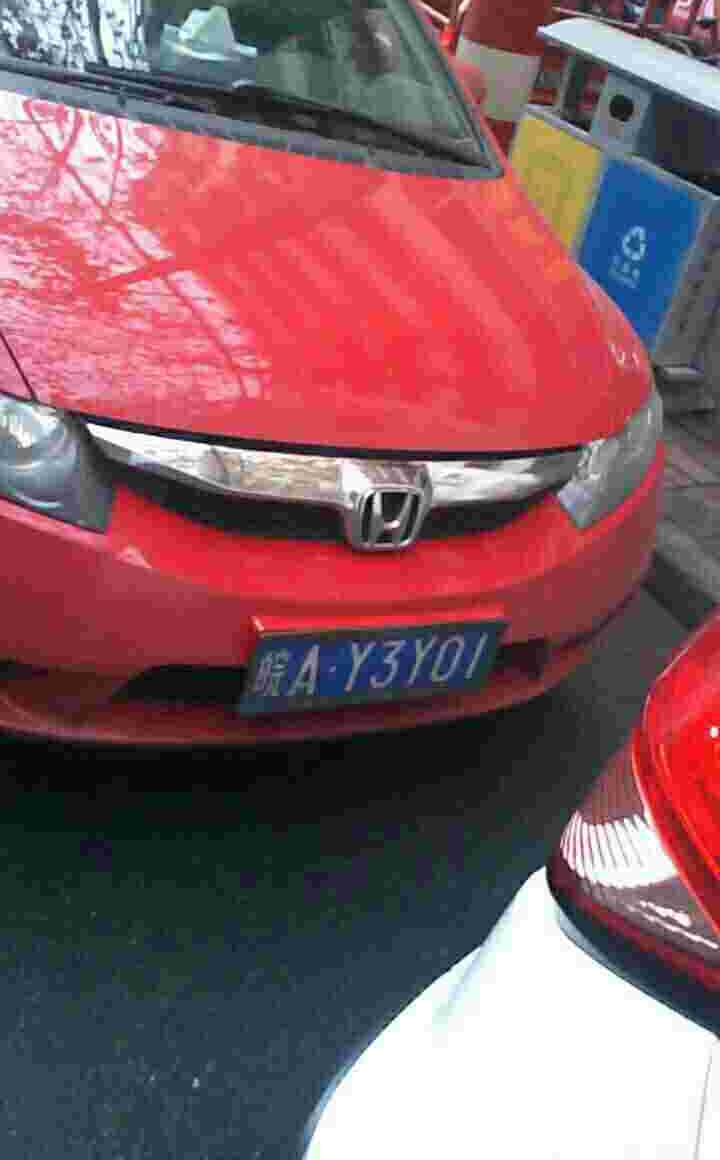license_plate: (252, 635, 508, 711)
